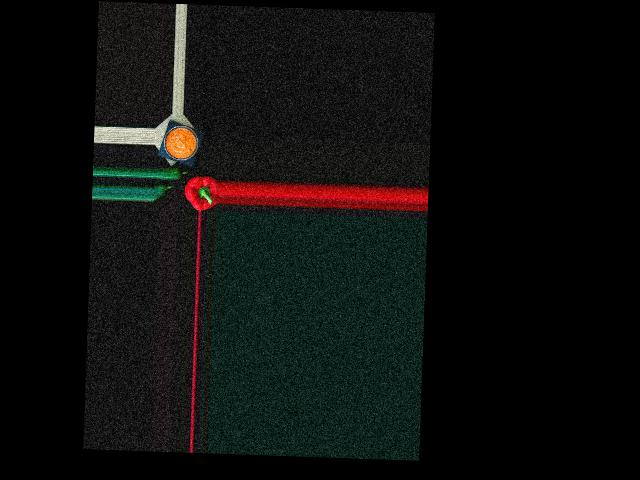bell_pepper: (184, 175, 216, 210)
